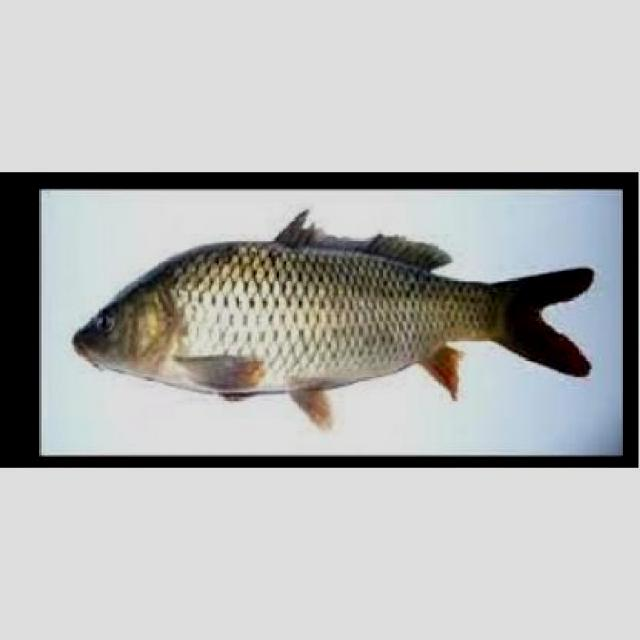ikan-mas: (72, 217, 602, 411)
